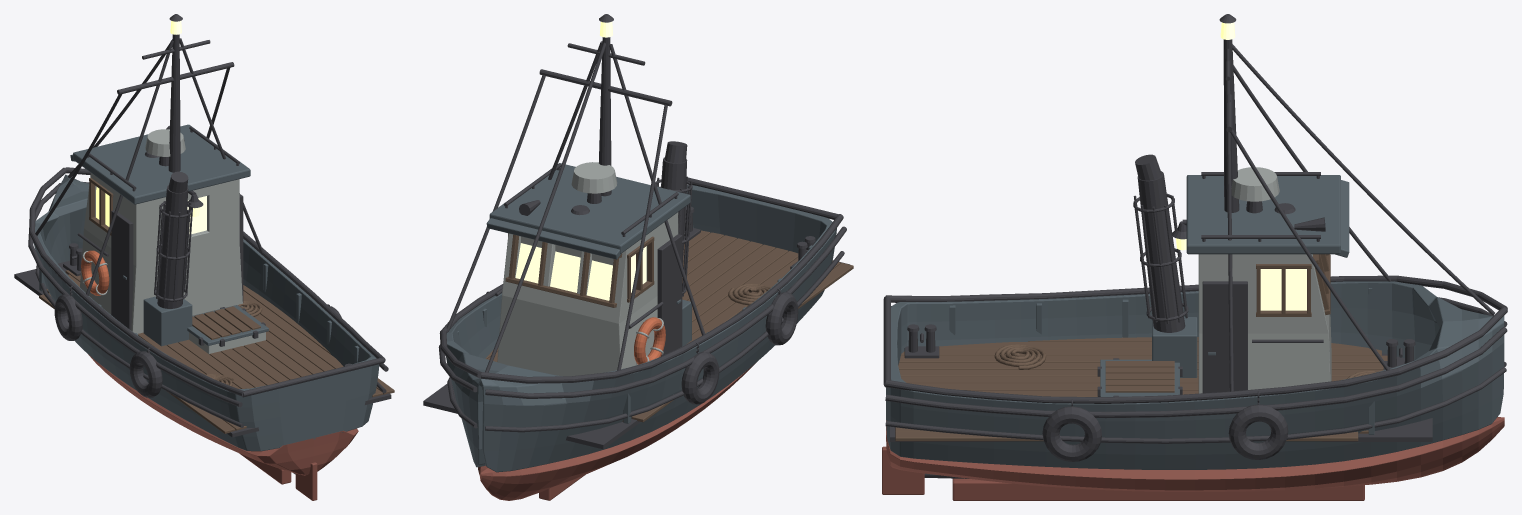
Rendered from trawler.glb.
The picture shows the model from 3 angles, left to right: view 1: azimuth 30°, elevation 25°; view 2: azimuth 150°, elevation 25°; view 3: azimuth 270°, elevation 25°; orthographic projection. The views are drawn at different scales.
Parts seen in each view (by area): view 1: TrawlerMesh; view 2: TrawlerMesh; view 3: TrawlerMesh.
Part boxes in pixels (x1,y1,x2,y2): TrawlerMesh: (14, 14, 394, 500); TrawlerMesh: (423, 14, 853, 500); TrawlerMesh: (882, 14, 1507, 500).
Bounding box in the file's own units: 2.22 × 4.01 × 4.7.
